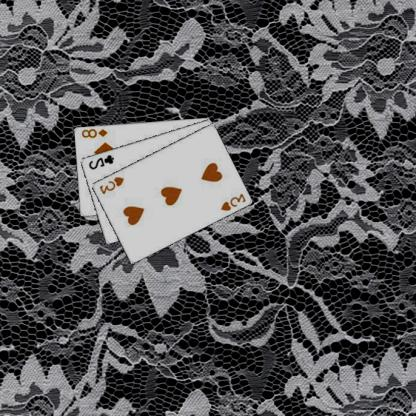2C: (88, 152, 116, 170)
3H: (219, 190, 249, 212), (98, 174, 127, 195)
8D: (81, 126, 110, 139)
